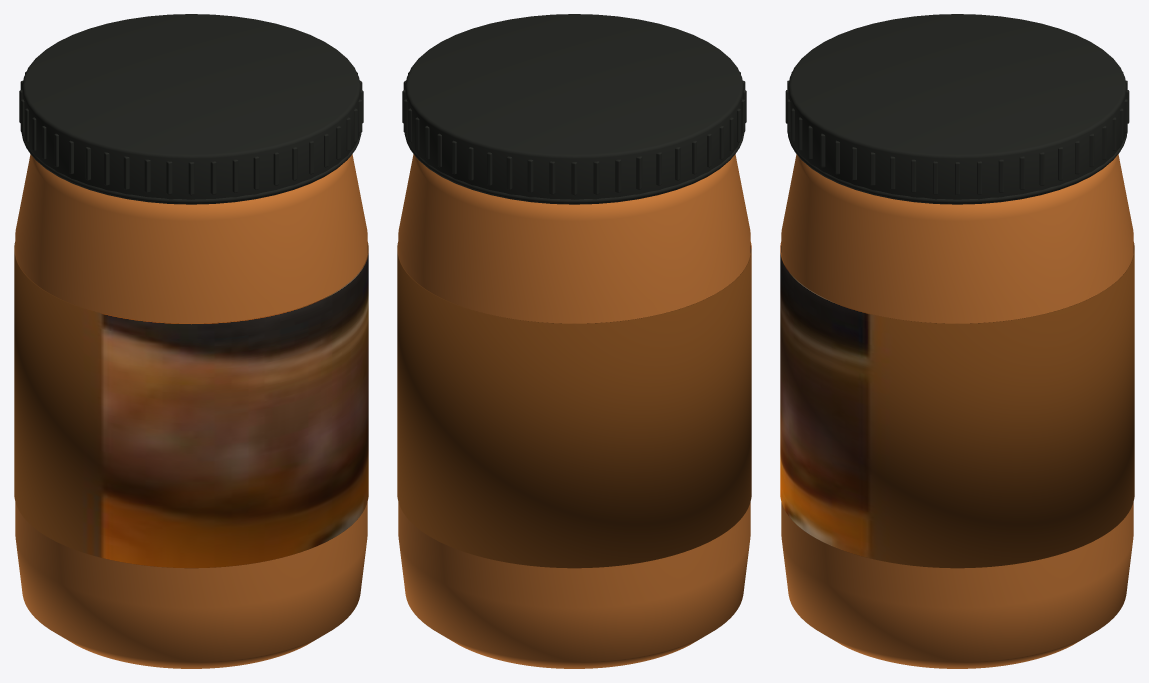
Rendered from fridge_contents__screw_lid_food_jar.glb.
The picture shows the model from 3 angles, left to right: view 1: azimuth 30°, elevation 25°; view 2: azimuth 150°, elevation 25°; view 3: azimuth 270°, elevation 25°; orthographic projection.
Parts seen in each view (by area): view 1: photo paper label, hollow container, removable closure, closure lower bead; view 2: photo paper label, hollow container, removable closure, closure lower bead; view 3: photo paper label, hollow container, removable closure, closure lower bead.
Boxes of the visible parts, x1=… form: photo paper label: x1=14, y1=242, x2=368, y2=568; hollow container: x1=15, y1=154, x2=367, y2=668; removable closure: x1=22, y1=14, x2=360, y2=204; closure lower bead: x1=21, y1=132, x2=361, y2=203; photo paper label: x1=397, y1=242, x2=751, y2=568; hollow container: x1=398, y1=154, x2=750, y2=668; removable closure: x1=405, y1=14, x2=743, y2=204; closure lower bead: x1=404, y1=132, x2=744, y2=203; photo paper label: x1=780, y1=242, x2=1134, y2=568; hollow container: x1=781, y1=154, x2=1133, y2=668; removable closure: x1=788, y1=14, x2=1126, y2=204; closure lower bead: x1=787, y1=133, x2=1127, y2=203.
Size of the model in its own units: 0.0775 by 0.128 by 0.0775.
3 materials, 1 textured.
